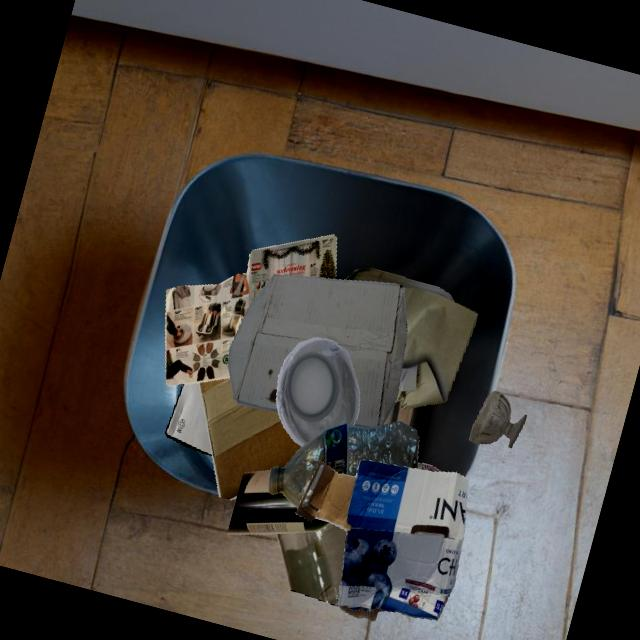cardboard: (295, 459, 468, 621), (227, 274, 407, 427), (198, 377, 302, 500), (417, 463, 441, 471)
glass: (227, 469, 330, 534), (276, 523, 346, 606), (345, 268, 453, 301), (469, 391, 526, 448)
paper: (164, 234, 336, 386), (393, 287, 477, 409), (164, 382, 212, 456)
plastic: (268, 421, 419, 507), (275, 337, 359, 446)
